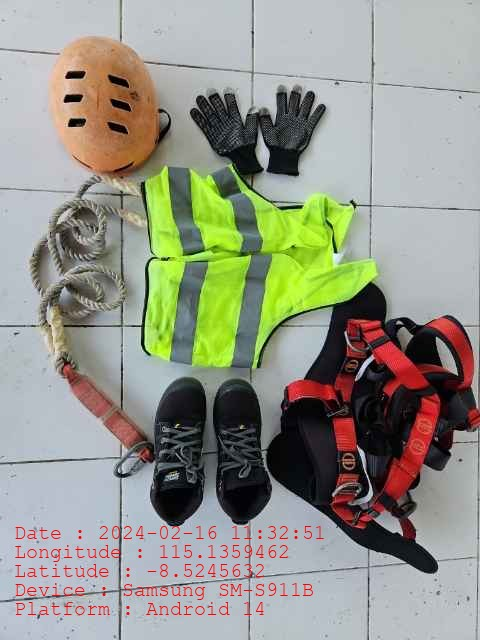HELM: (50, 36, 158, 173)
ROMPI: (143, 178, 375, 323)
SARUNG_TANGAN: (260, 83, 326, 179), (191, 87, 260, 174)
SEPATU: (149, 377, 268, 524)
TAMBANG_SLING: (29, 178, 142, 370)
